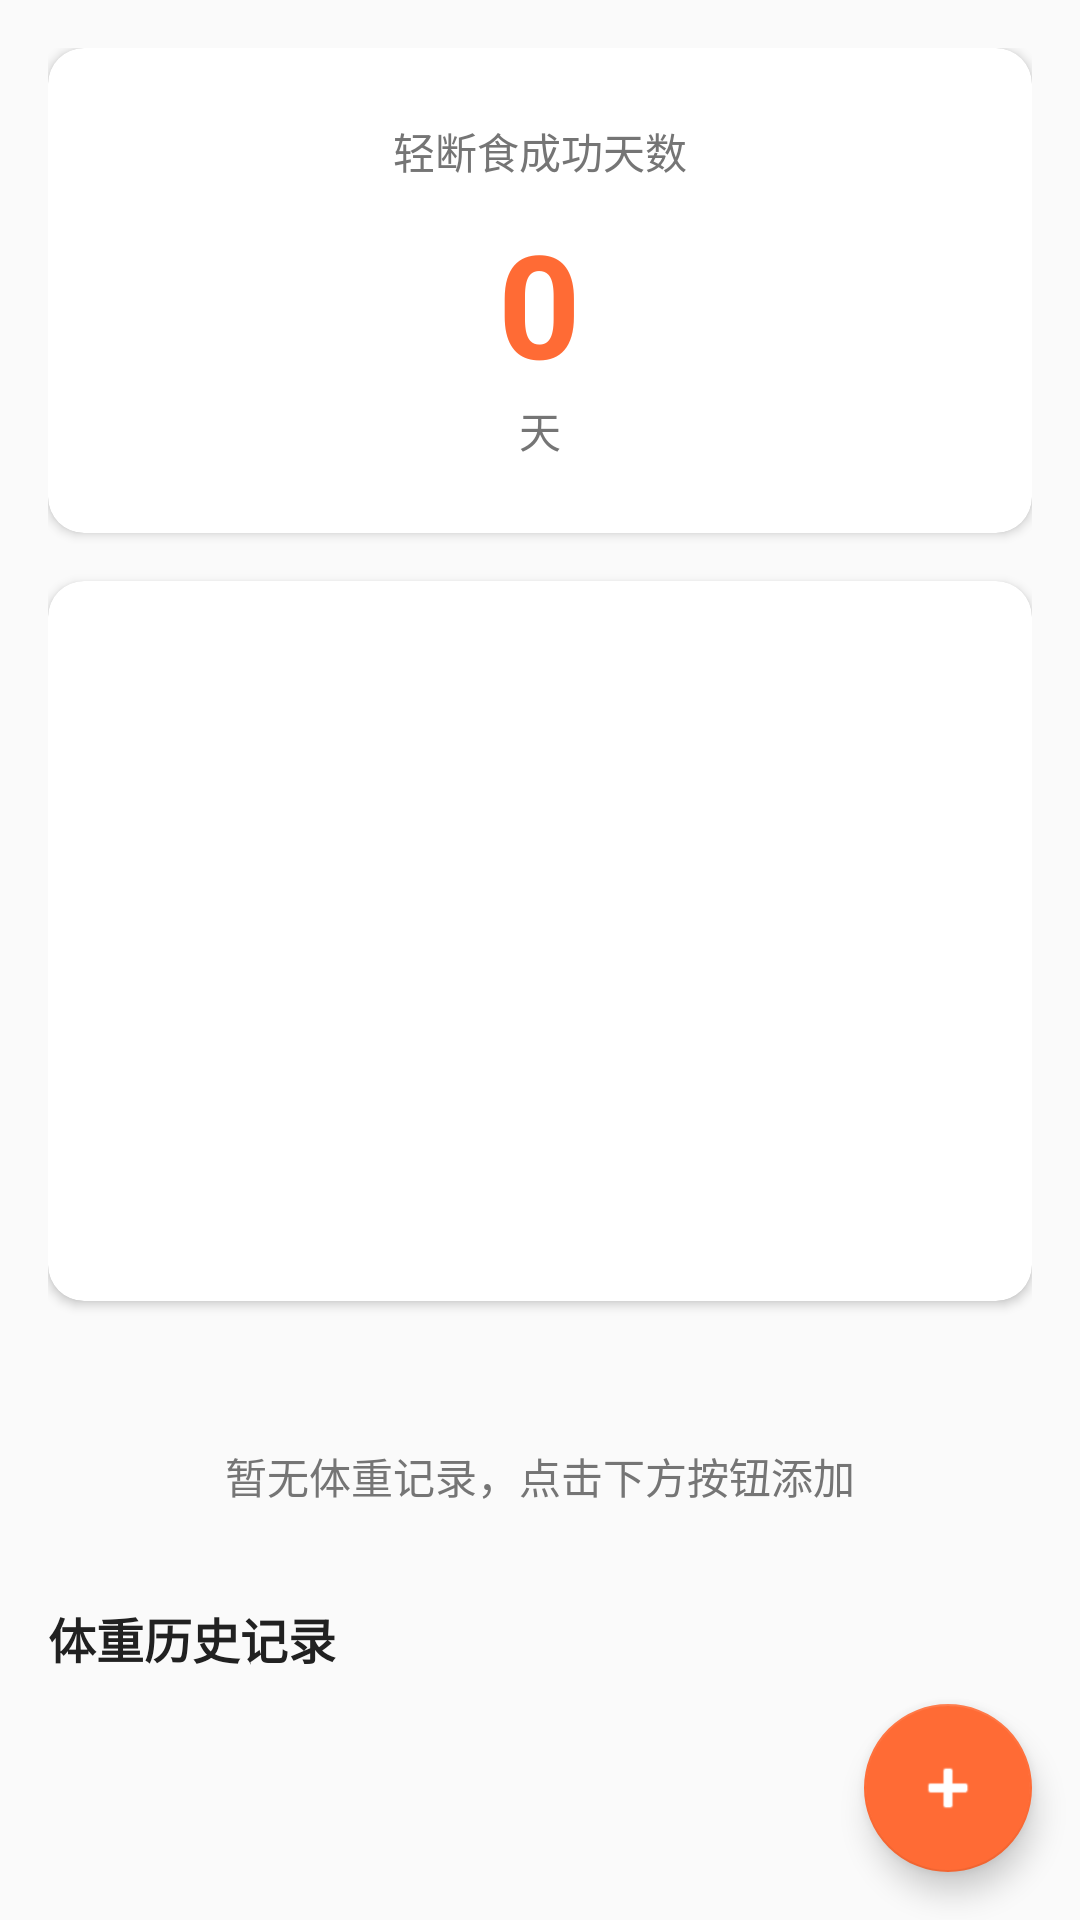

Screen size 1080px×1920px. Icon name, then its box in pixels as BBox(x1, y1, x2, y2):
记录体重: BBox(864, 1704, 1032, 1872)
